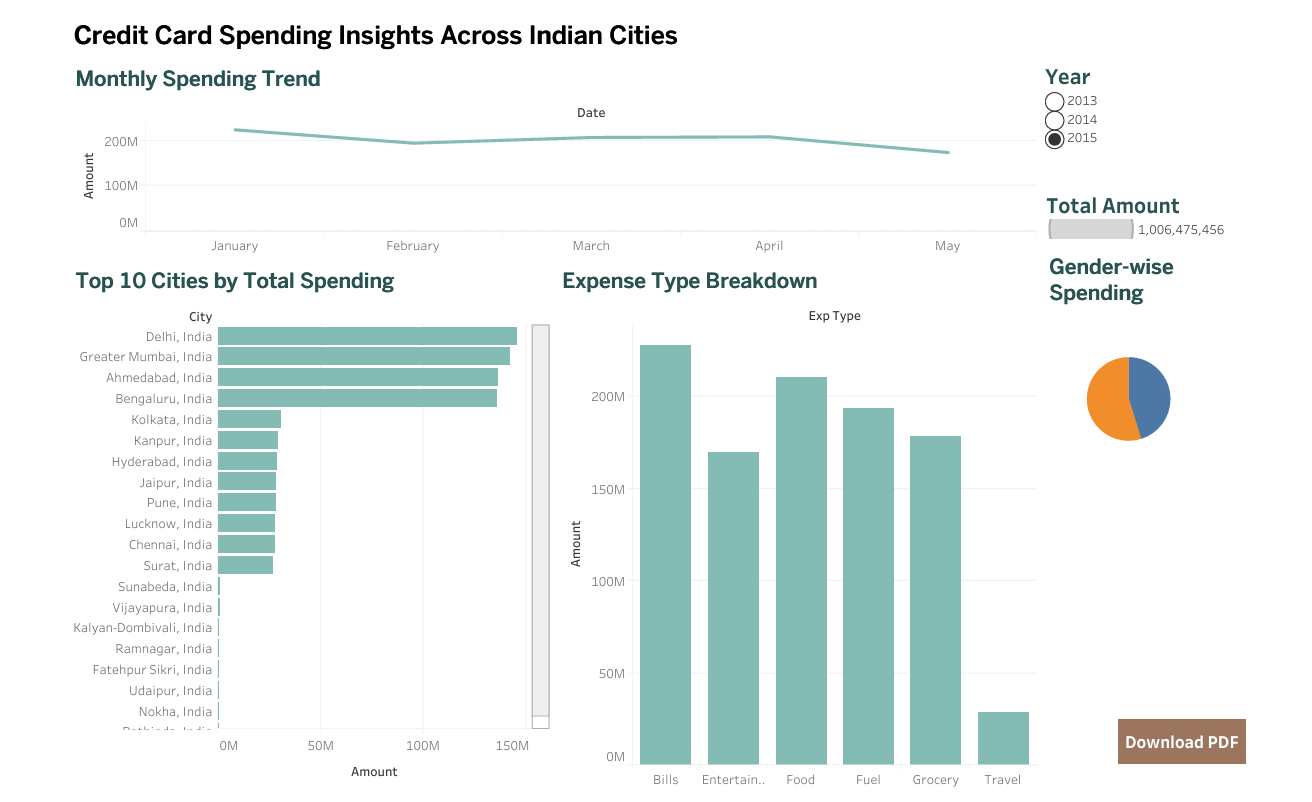

Layout of this report page (visuals, bound fields, positions):
{"tool":"tableau","page":{"name":"Dashboard 1","canvas":[1000,1000],"units":"permille","ordinal":0},"visuals":[{"type":"title","box":[4.8,10,990.3,54.9]},{"type":"worksheet","title":"Monthly Spending Trend","mark":"Automatic","rows":["Amount"],"cols":["Date"],"box":[4.8,64.9,869,254.2]},{"type":"filter","title":"Monthly Spending Trend","param":"[federated.1ce5i7i16ycnmb1189cwa18t0fux].[yr:Transaction Year:ok]","box":[873.9,64.9,121.3,176]},{"type":"legend","title":"Gender-wise Spending","param":"[federated.1ce5i7i16ycnmb1189cwa18t0fux].[sum:Amount:qk]","box":[873.9,241,121.3,79.9]},{"type":"worksheet","title":"Top 10 Cities by Total Spending","mark":"Automatic","rows":["City"],"cols":["Amount"],"box":[4.8,319.1,434.5,670.9]},{"type":"worksheet","title":"Expense Type Breakdown","mark":"Automatic","rows":["Amount"],"cols":["Exp Type"],"box":[439.4,319.1,434.5,670.9]},{"type":"worksheet","title":"Gender-wise Spending","mark":"Pie","box":[873.9,320.9,121.3,303.4]},{"type":"dashboard-object","box":[882.3,897.6,106.2,56.2]}]}

Visuals, with their boxes on the dashboard's canvas, which has no fixed pixel size, in thousandths of its width and height (x1, y1, x2, y2). These are canvas units, not pixel positions in the 1312x802 screenshot, which may show the page scaled, cropped or inside an application window:
title: (x1=5, y1=10, x2=995, y2=65)
"Monthly Spending Trend" worksheet: (x1=5, y1=65, x2=874, y2=319)
"Monthly Spending Trend" filter: (x1=874, y1=65, x2=995, y2=241)
"Gender-wise Spending" legend: (x1=874, y1=241, x2=995, y2=321)
"Top 10 Cities by Total Spending" worksheet: (x1=5, y1=319, x2=439, y2=990)
"Expense Type Breakdown" worksheet: (x1=439, y1=319, x2=874, y2=990)
"Gender-wise Spending" worksheet (Pie marks): (x1=874, y1=321, x2=995, y2=624)
dashboard-object: (x1=882, y1=898, x2=988, y2=954)
